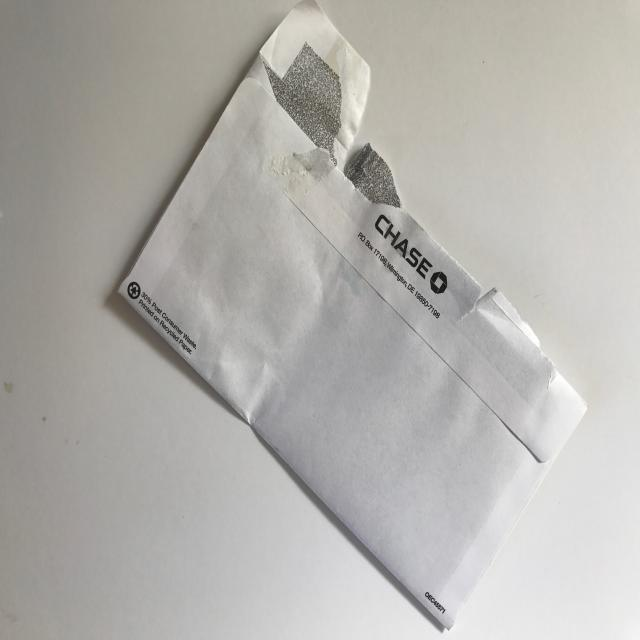paper: (111, 1, 591, 632)
